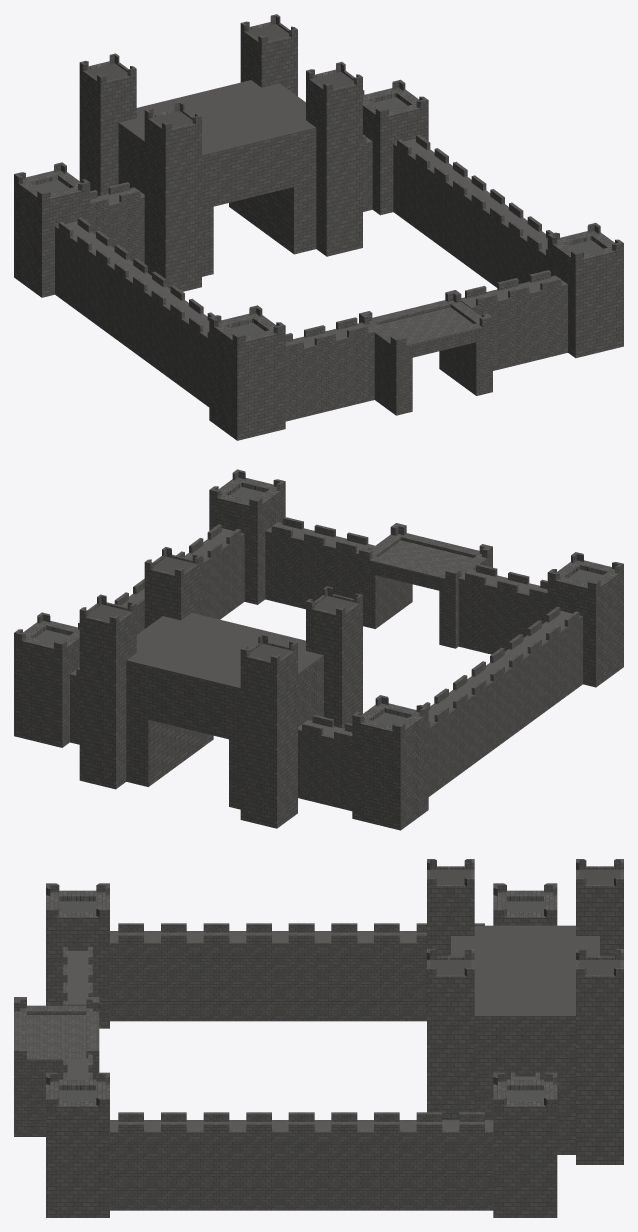
File: Castle.fbx
The picture shows the model from 3 angles, top to bottom: view 1: azimuth 30°, elevation 25°; view 2: azimuth 150°, elevation 25°; view 3: azimuth 270°, elevation 25°; orthographic projection. The views are drawn at different scales.
Visible parts, largest first — view 1: Castle; view 2: Castle; view 3: Castle.
Boxes of the visible parts, box(x1,y1,x2,y2) form: Castle: box(14, 14, 623, 440); Castle: box(14, 469, 623, 830); Castle: box(14, 859, 623, 1217).
Size of the model in its own units: 4800 by 2026 by 5725.
1 material, 1 textured.
